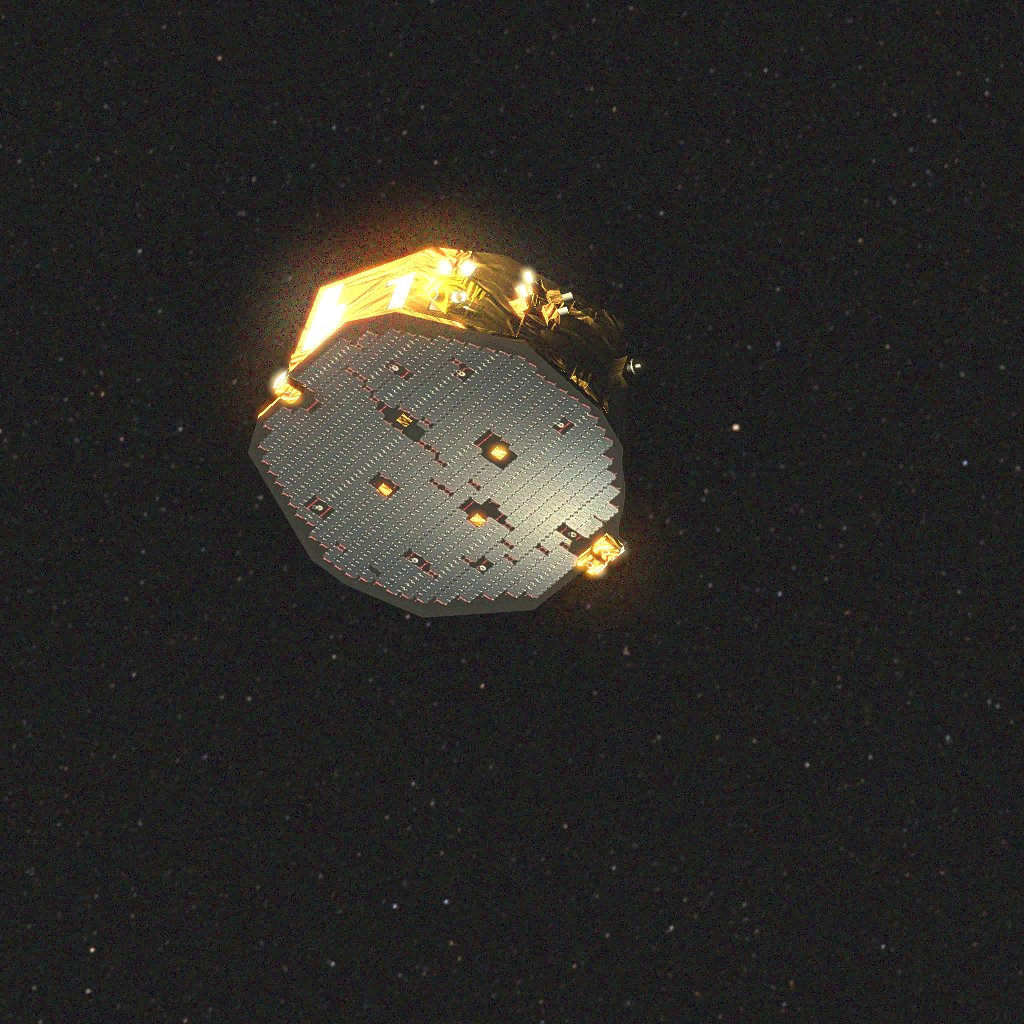lisa_pathfinder: (248, 247, 642, 618)
